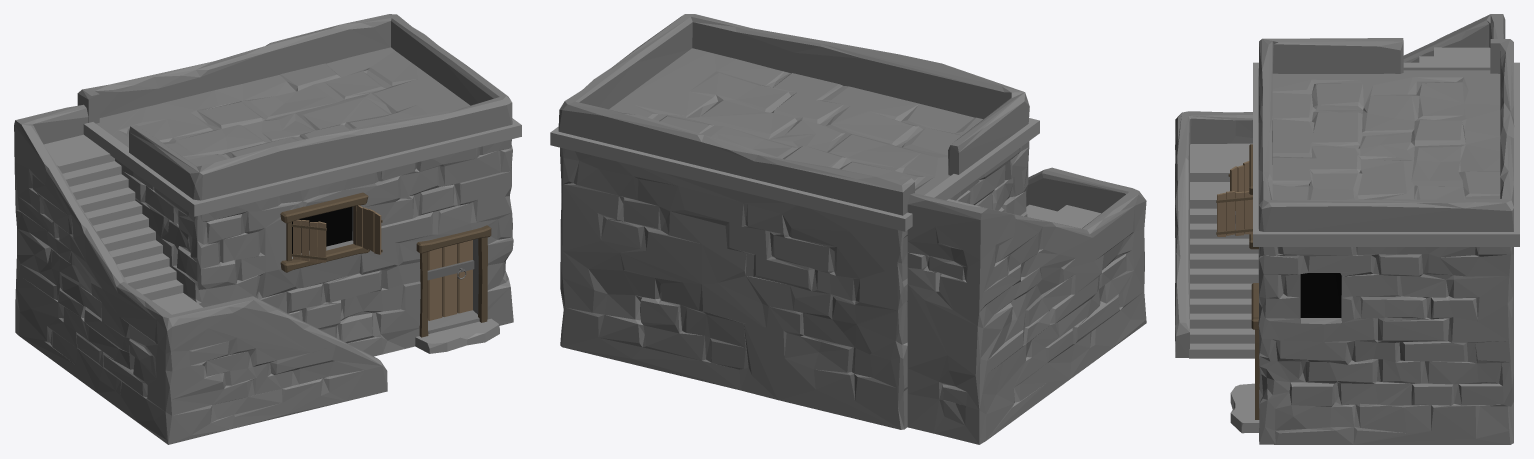
File: village_stone_house_d.FBX
3 renders of one model, left to right at view 1: azimuth 30°, elevation 25°; view 2: azimuth 150°, elevation 25°; view 3: azimuth 270°, elevation 25°, orthographic. The views are drawn at different scales.
Visible parts, largest first — view 1: village_stone_house_d; view 2: village_stone_house_d; view 3: village_stone_house_d.
Boxes of the visible parts, bbox=[...] form: village_stone_house_d: bbox=[14, 14, 521, 444]; village_stone_house_d: bbox=[550, 14, 1146, 444]; village_stone_house_d: bbox=[1175, 14, 1519, 444].
Bounding box in the file's own units: 10.43 × 5.95 × 7.43.
